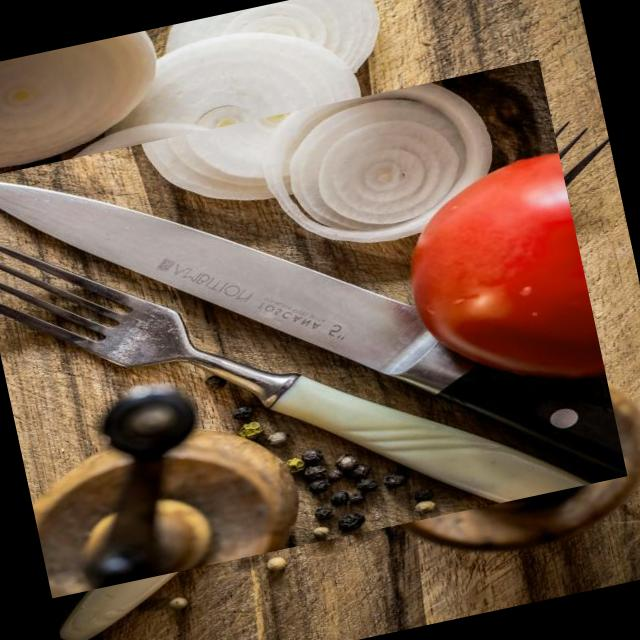Knife: (0, 183, 627, 476)
